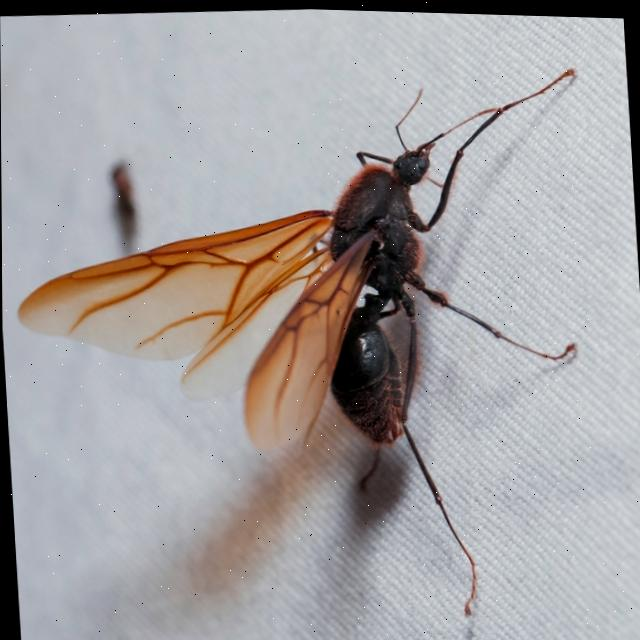Alive-Male-Alate: (3, 51, 609, 640)
